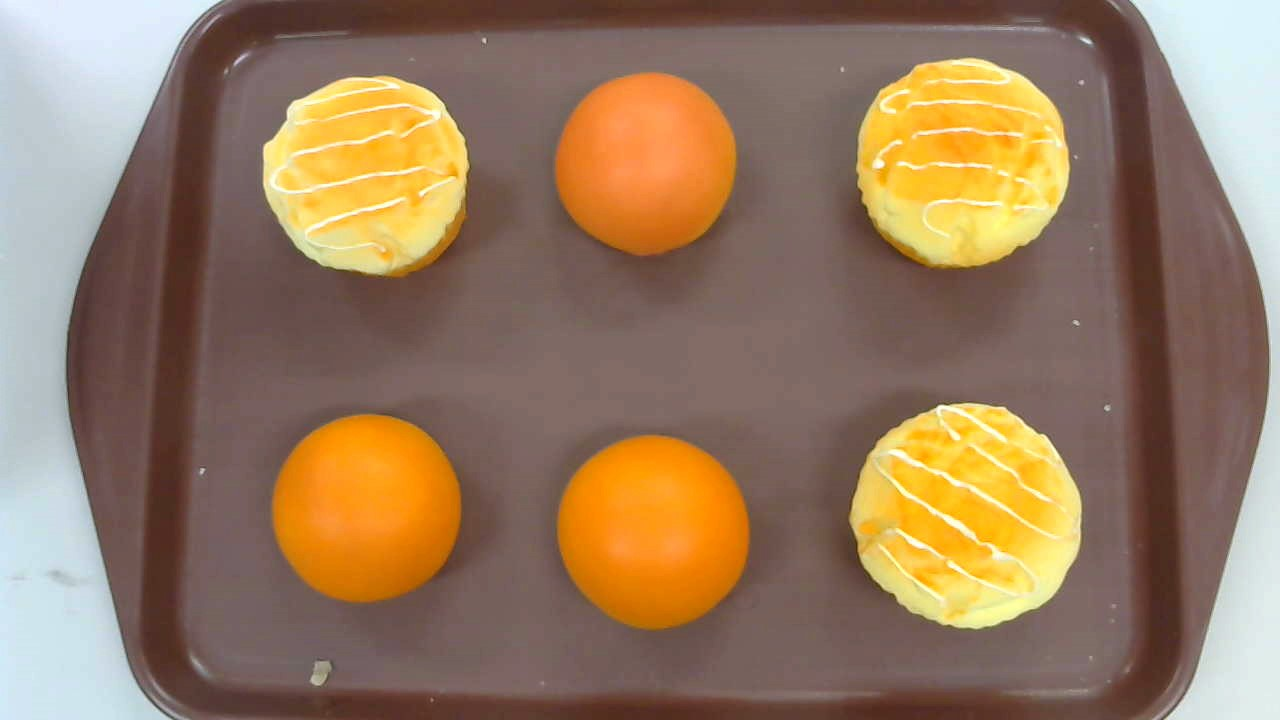bun: (557, 434, 750, 632), (272, 413, 462, 603), (555, 72, 735, 256)
cupcake: (848, 402, 1083, 629), (856, 56, 1070, 270), (261, 74, 469, 280)
